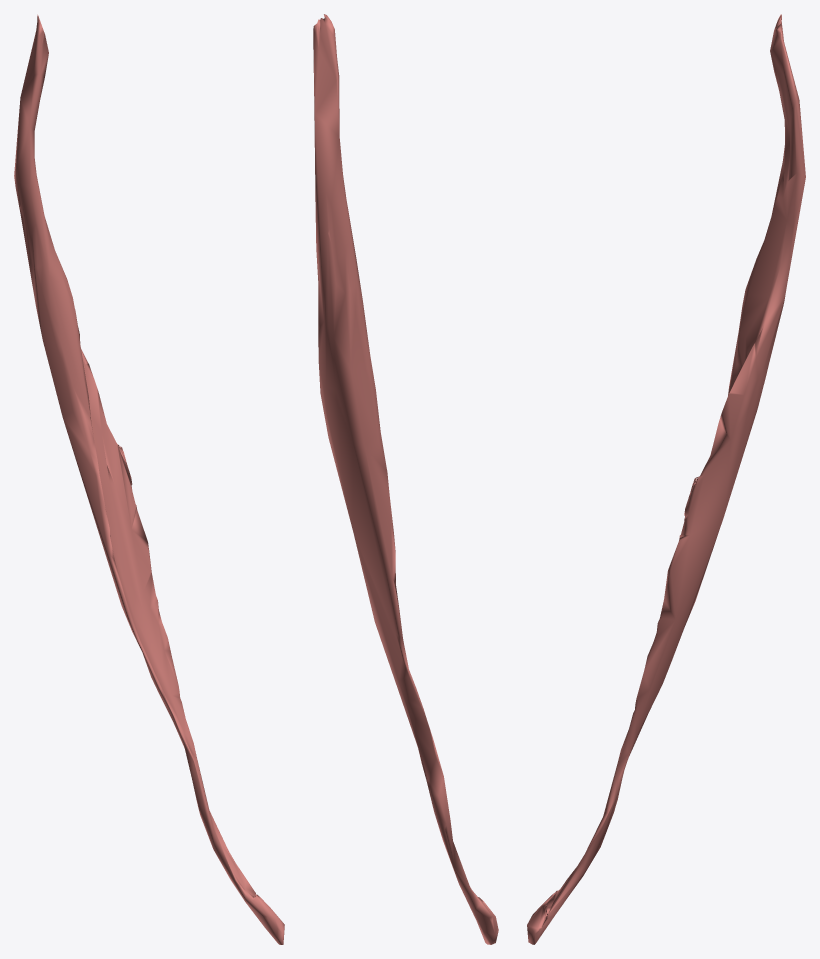
3 views of the same model, side by side, from view 1: azimuth 90°, elevation 25°; view 2: azimuth 150°, elevation 25°; view 3: azimuth 270°, elevation 25° (orthographic). The views are drawn at different scales.
Parts seen in each view (by area): view 1: ZA_9d478abefe453188; view 2: ZA_9d478abefe453188; view 3: ZA_9d478abefe453188.
Part boxes in pixels (x1,y1,x2,y2): ZA_9d478abefe453188: [14, 14, 284, 944]; ZA_9d478abefe453188: [313, 14, 498, 944]; ZA_9d478abefe453188: [527, 14, 805, 944].
Bounding box in the file's own units: 0.0191 × 0.2889 × 0.0774.
